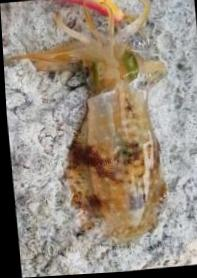Cephalopod: (20, 0, 162, 240)
